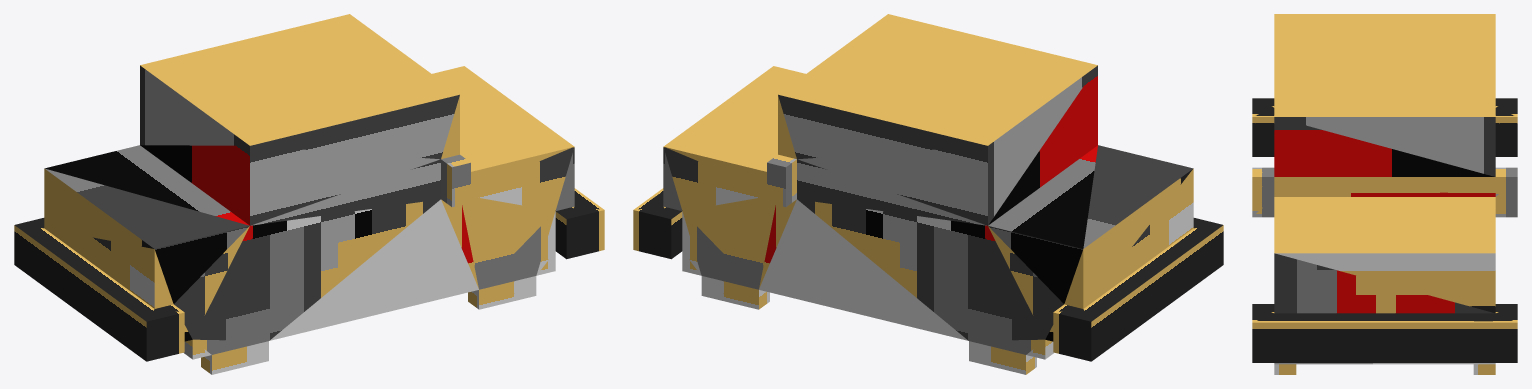
The model's file is veh_mini3.dae.
The picture shows the model from 3 angles, left to right: view 1: azimuth 30°, elevation 25°; view 2: azimuth 150°, elevation 25°; view 3: azimuth 270°, elevation 25°; orthographic projection.
Visible parts, largest first — view 1: veh_mini3; view 2: veh_mini3; view 3: veh_mini3.
Boxes of the visible parts, x1,y1,x2,y2 form: veh_mini3: (14,14,604,374); veh_mini3: (633,14,1223,374); veh_mini3: (1252,14,1517,374).
Bounding box in the file's own units: 2.4 × 1.2 × 1.1.
